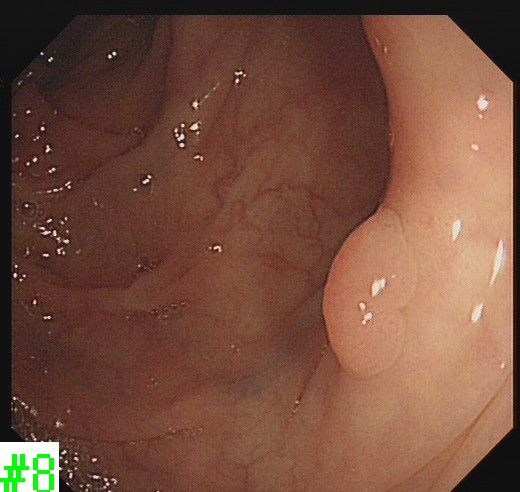adenoma: (319, 205, 419, 381)
